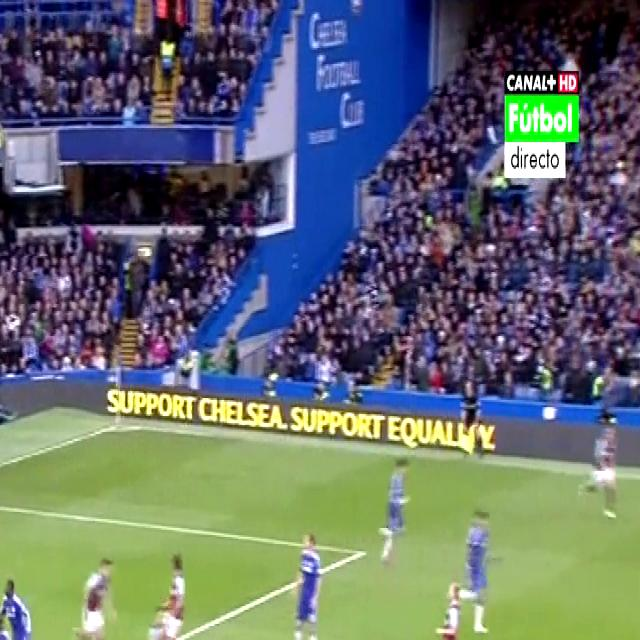referee: (455, 363, 492, 466)
soccer-player: (454, 497, 498, 633), (578, 412, 627, 529), (376, 445, 414, 570), (288, 522, 327, 640), (74, 542, 118, 640), (157, 535, 191, 640), (0, 563, 44, 640), (433, 569, 467, 640), (128, 597, 179, 640), (0, 608, 15, 640)
